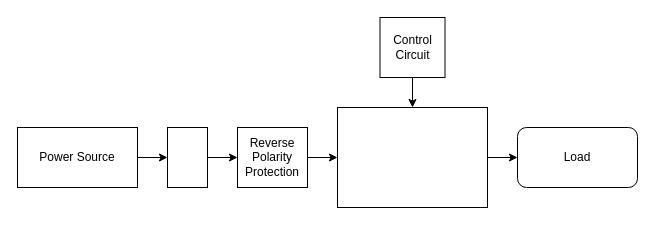
The diagram is 655 pixels wide and 225 high, and some of its shapes have lost their labels. Here are the shapes that lost their labels. From the top down, the box of each, then its label:
(166, 126, 208, 188): Fuse
(336, 106, 488, 208): Switching Regulator
